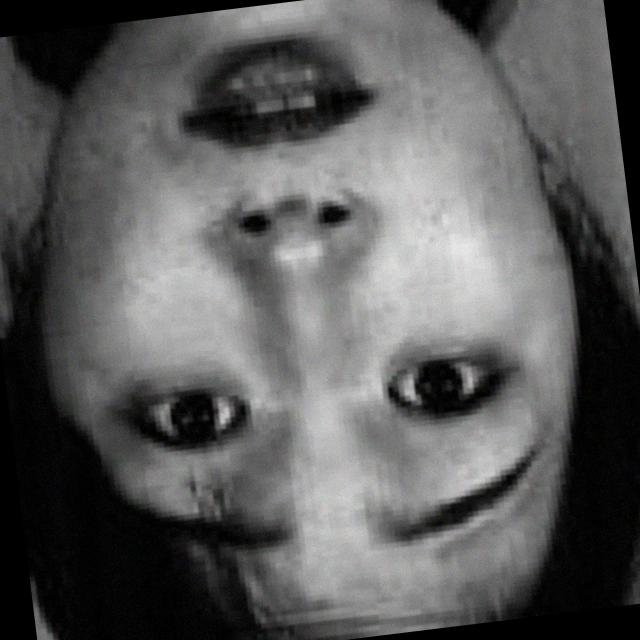fear: (26, 0, 596, 618)
